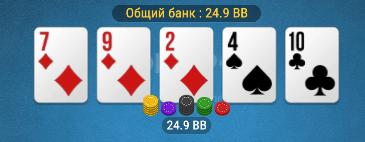10c: (286, 27, 339, 103)
2d: (161, 28, 213, 101)
4s: (223, 28, 276, 102)
7d: (34, 28, 88, 103)
9d: (97, 28, 151, 102)
